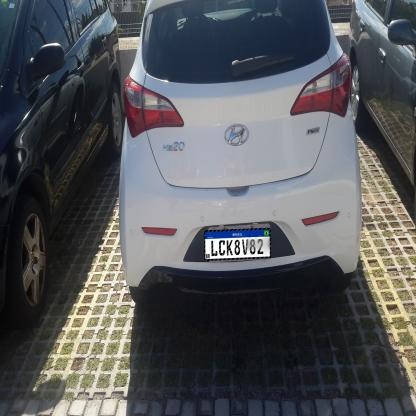PlacaM: (204, 228, 271, 261)
